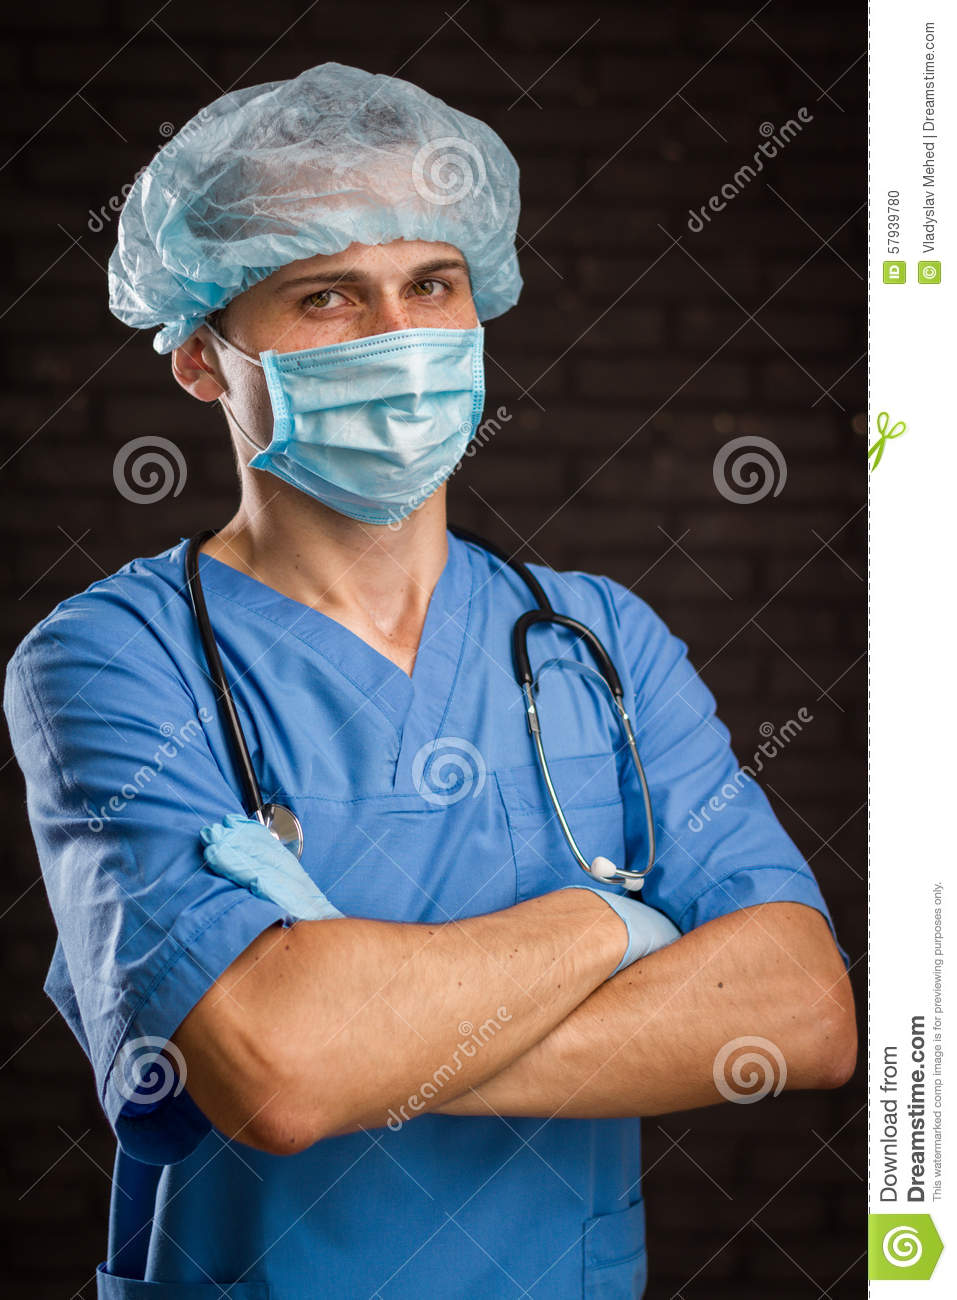mask: (257, 329, 493, 531)
